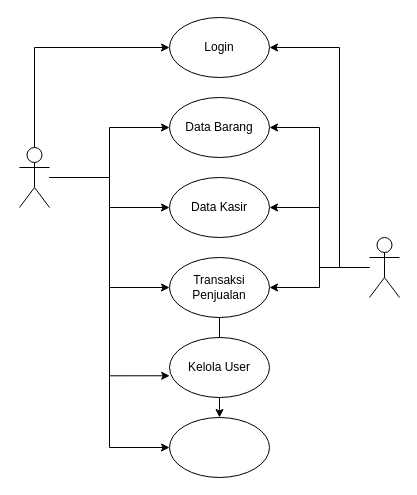
Image size: 417x495. Some labels were removed from this diagram. The centre of each missing label's shape, as x and y in pixels:
"About Us/ Profile" goes at (x=219, y=447).
"Admin" goes at (x=34, y=177).
"Kasir" goes at (x=384, y=267).
